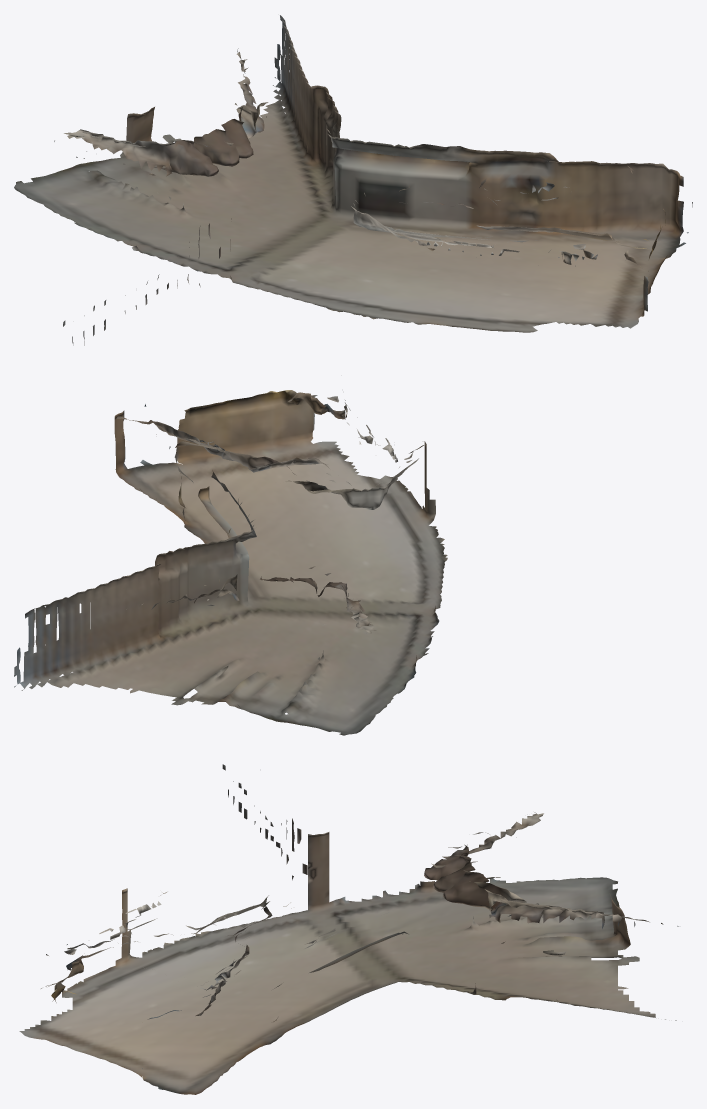
File: scene_collider.glb
3 views of the same model, one above another, from view 1: azimuth 30°, elevation 25°; view 2: azimuth 150°, elevation 25°; view 3: azimuth 270°, elevation 25° (orthographic).
Parts seen in each view (by area): view 1: world; view 2: world; view 3: world.
Boxes of the visible parts, <box> form: world: <box>14,15,692,345</box>; world: <box>14,390,447,735</box>; world: <box>19,764,678,1094</box>.
Size of the model in its own units: 10.17 by 1.44 by 10.02.
